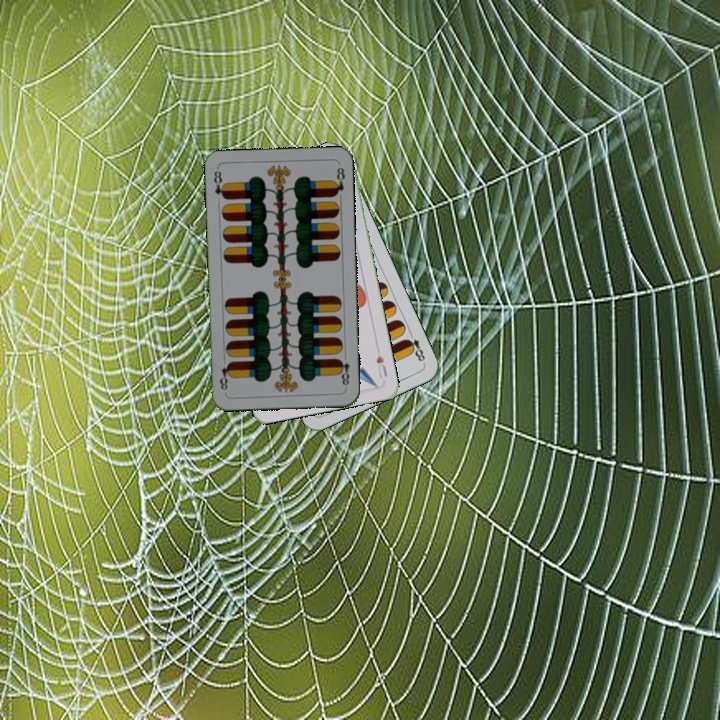E8: (402, 327, 428, 366), (334, 350, 352, 391), (210, 165, 228, 202)
HU: (372, 351, 390, 380)
